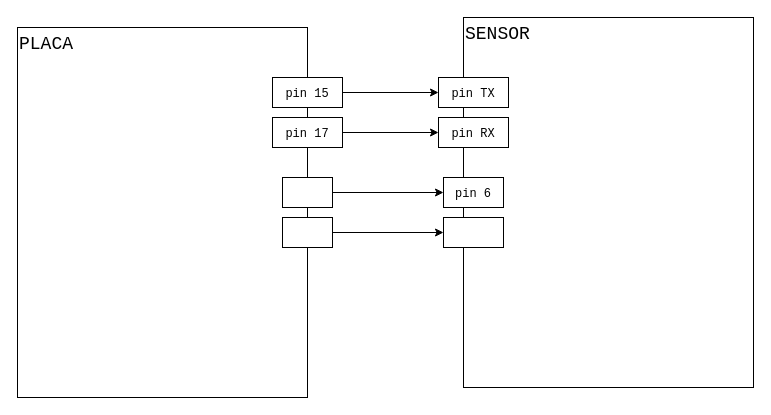
Some shapes in this 771 by 415 pixel diagram are drawn without their labels. The shapes that lost their labels are listed below. From the top down, each one's centre as x and y in pixels, then its label:
pixel 307 192: 3v3
pixel 307 232: GBD
pixel 473 232: pin 4
